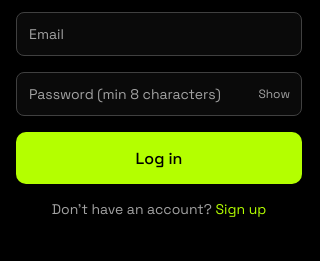
Test: LoginForm › shows the Server Action's form error
This screenshot has width=320, height=261.
Type "player@example.com" into the field labelled "Email" at coordinates (159, 34), box [16, 12, 302, 56]
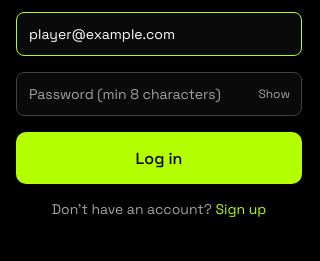
Type "wrongpassword" into the password field labelled "Password" at coordinates (159, 94), box [16, 72, 302, 116]
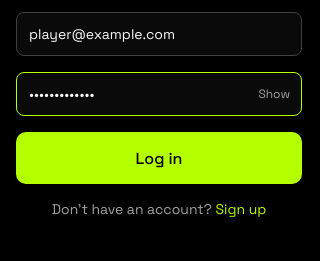
Click the button "Log in" at coordinates (159, 158), box [16, 132, 302, 184]
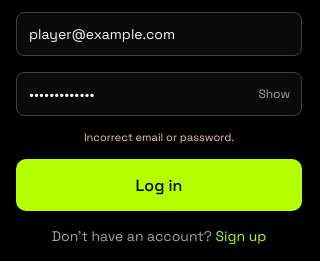
Check: the text "Incorrect email or password." is shown, box [84, 132, 234, 143]
